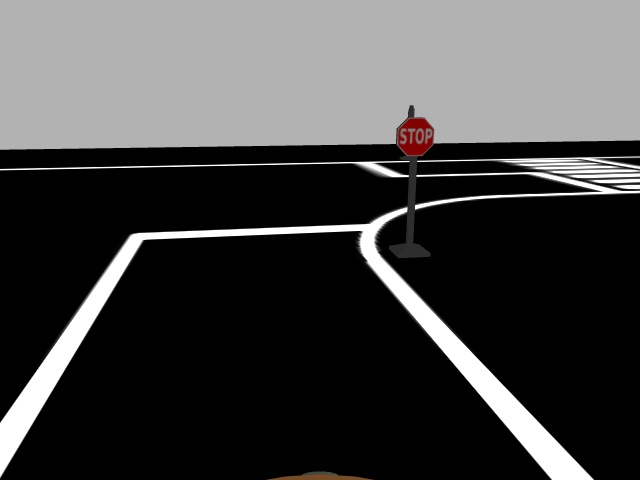stop: (391, 116, 437, 157)
